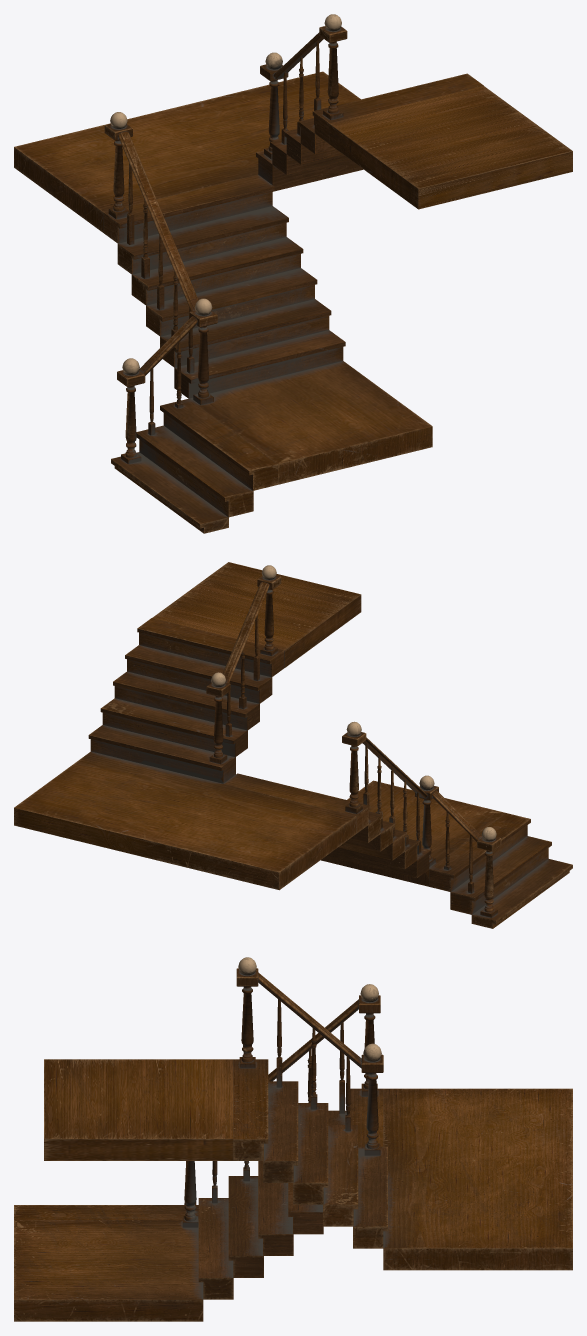
The model's file is stairs_02.glb.
3 views of the same model, one above another, from view 1: azimuth 30°, elevation 25°; view 2: azimuth 150°, elevation 25°; view 3: azimuth 270°, elevation 25° (orthographic). The views are drawn at different scales.
Parts seen in each view (by area): view 1: model_obj; view 2: model_obj; view 3: model_obj.
Boxes of the visible parts, box(x1,y1,x2,y2) form: model_obj: box(14, 14, 572, 533); model_obj: box(14, 562, 572, 928); model_obj: box(14, 957, 572, 1321).
Bounding box in the file's own units: 3.63 × 3.41 × 4.29.
1 material, 1 textured.
